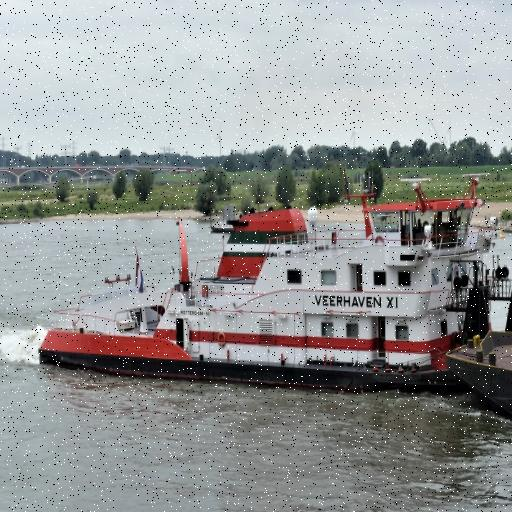tugboat: (35, 171, 512, 400)
